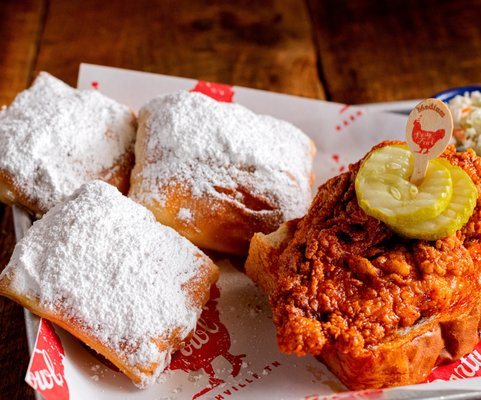soup: (0, 181, 220, 387)
